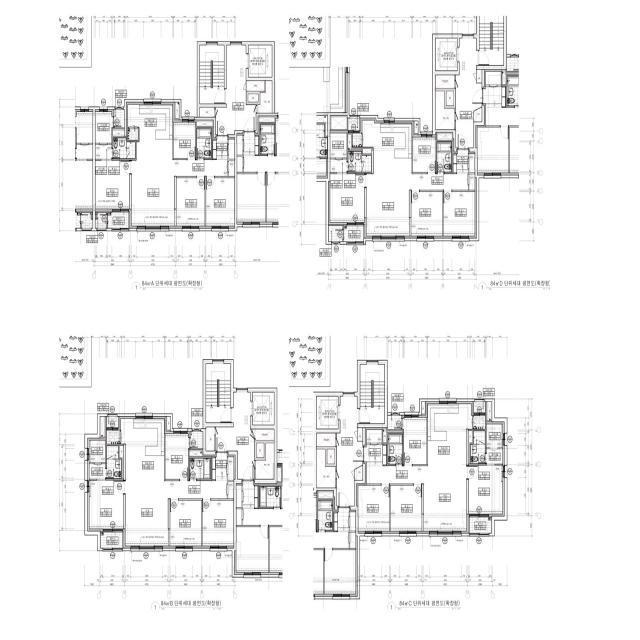space_balconi: (101, 532, 123, 548), (344, 226, 364, 242), (108, 213, 129, 228), (470, 518, 491, 533)
space_bedroom: (95, 161, 130, 209), (468, 465, 502, 514), (89, 481, 123, 529), (330, 174, 364, 222), (358, 485, 390, 531), (203, 500, 234, 546), (443, 192, 475, 236), (170, 501, 201, 546), (391, 486, 422, 531), (176, 178, 205, 226), (411, 192, 442, 236), (206, 178, 234, 226), (404, 418, 427, 464), (165, 434, 188, 479), (413, 137, 436, 172), (174, 122, 196, 158)
space_dressroom: (95, 112, 112, 159), (330, 133, 347, 172), (487, 424, 503, 464), (89, 441, 105, 479)
space_elevator: (249, 45, 272, 77), (253, 392, 274, 425), (436, 38, 457, 71), (317, 397, 338, 429)
space_elevator_hall: (216, 45, 256, 134), (216, 392, 254, 479), (456, 38, 482, 148), (337, 397, 363, 506)
space_front: (212, 453, 234, 480), (213, 136, 235, 159), (364, 444, 387, 466), (453, 150, 468, 174)
space_kitchen: (428, 404, 473, 465), (121, 419, 164, 481), (362, 121, 412, 174), (128, 105, 173, 160)
space_living_room: (125, 481, 234, 546), (132, 160, 234, 226), (367, 466, 467, 531), (366, 174, 468, 236)
space_other: (436, 91, 455, 129), (317, 449, 335, 488), (256, 443, 274, 479), (258, 81, 272, 113), (436, 75, 455, 88), (252, 429, 274, 440), (317, 433, 335, 446), (329, 226, 343, 241), (348, 135, 362, 150), (367, 430, 382, 443), (191, 432, 203, 448), (206, 427, 214, 451), (331, 117, 347, 129), (246, 81, 265, 91), (107, 430, 120, 444), (388, 415, 401, 429), (114, 110, 124, 128), (119, 445, 124, 479), (474, 416, 485, 429), (468, 431, 472, 464), (200, 108, 214, 117), (352, 133, 361, 147), (327, 449, 335, 464), (474, 107, 482, 122), (446, 91, 454, 106), (469, 154, 475, 173), (355, 466, 363, 480), (128, 129, 138, 140), (257, 443, 264, 458), (469, 174, 475, 190), (438, 134, 452, 140), (248, 94, 258, 102), (100, 417, 104, 437), (488, 402, 492, 420), (189, 451, 202, 456), (358, 428, 363, 441), (477, 70, 482, 83), (197, 122, 212, 126), (383, 429, 387, 443), (113, 131, 124, 136), (414, 121, 418, 133), (363, 149, 372, 154), (167, 417, 170, 430), (422, 402, 425, 414)
space_outdoor_room: (95, 213, 107, 228), (348, 118, 359, 130), (474, 402, 485, 413), (107, 417, 118, 427)
space_staircase: (206, 364, 231, 423), (479, 7, 504, 65), (200, 45, 224, 104), (360, 365, 384, 423)
space_toilet: (471, 431, 485, 464), (348, 152, 371, 172), (437, 142, 452, 172), (107, 446, 121, 478), (190, 458, 211, 479), (113, 138, 135, 158), (197, 128, 211, 158), (388, 434, 402, 464)
